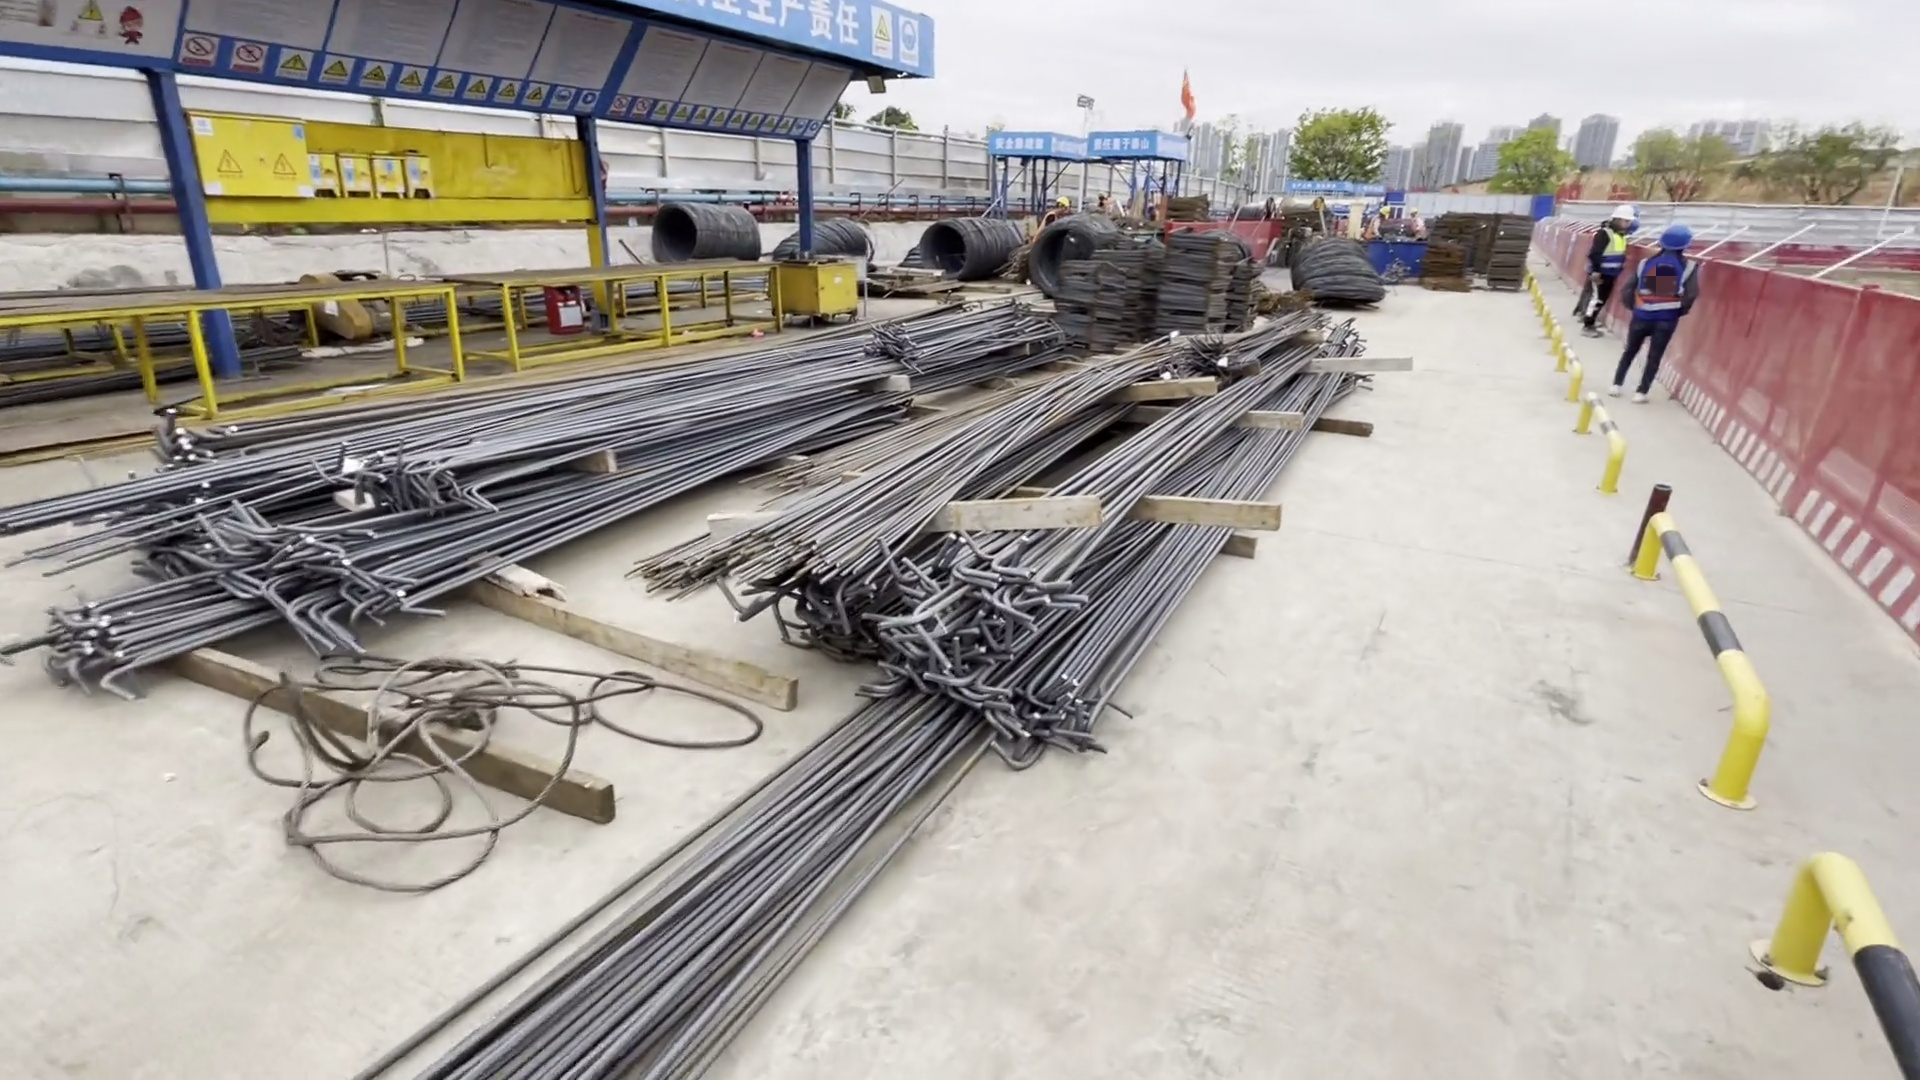ebox: (169, 112, 446, 197)
fence: (1679, 243, 1920, 672)
person: (1612, 230, 1693, 403), (1583, 205, 1629, 337), (1366, 204, 1393, 244)
rebar: (361, 319, 1360, 1080), (12, 284, 1068, 694)
slogan: (688, 1, 932, 67), (1088, 134, 1153, 154), (994, 135, 1045, 149)
